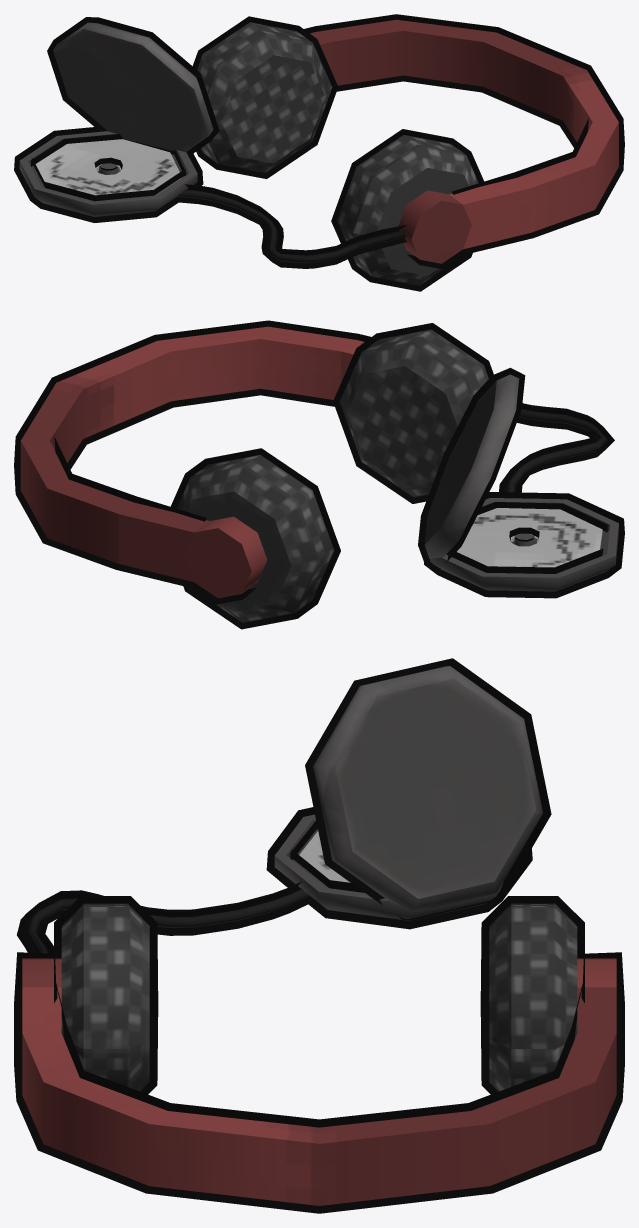
Rendered from Fone com disk man.glb.
The picture shows the model from 3 angles, top to bottom: view 1: azimuth 30°, elevation 25°; view 2: azimuth 150°, elevation 25°; view 3: azimuth 270°, elevation 25°; orthographic projection. The views are drawn at different scales.
Parts seen in each view (by area): view 1: Discman; view 2: Discman; view 3: Discman.
Boxes of the visible parts, x1,y1,x2,y2 form: Discman: [14, 14, 624, 291]; Discman: [14, 320, 624, 629]; Discman: [14, 658, 624, 1213].
Bounding box in the file's own units: 3.56 × 1.43 × 2.52.
Materials: 2 (1 with a texture image).
